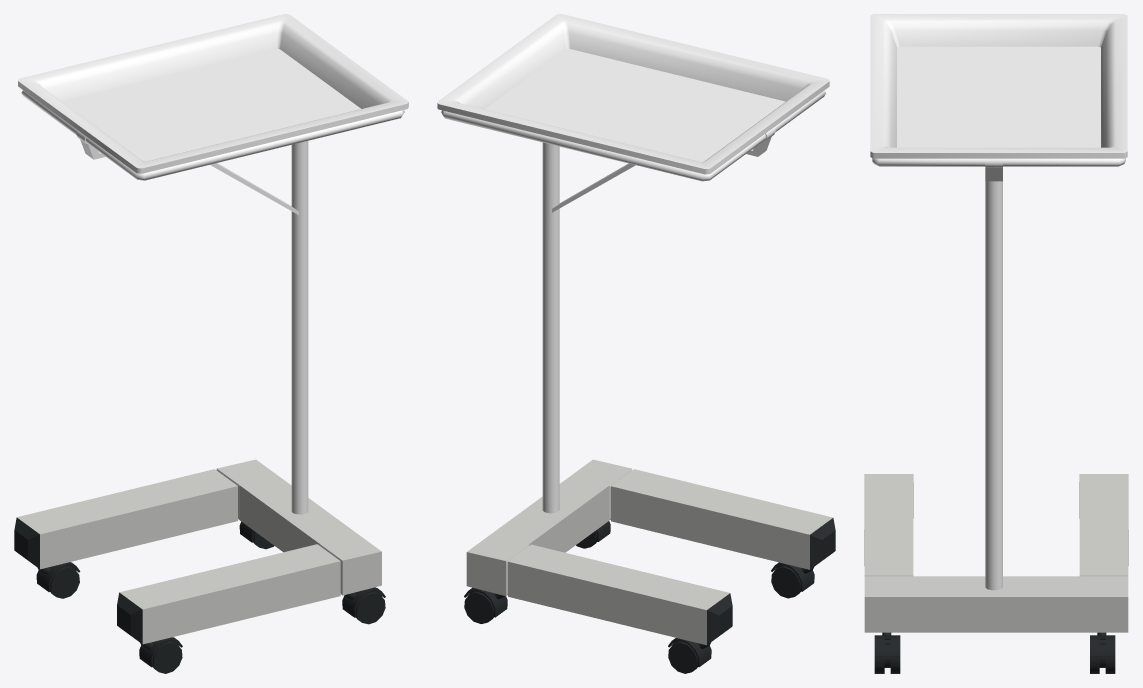
Rendered from SM_MayoTable.fbx.
3 views of the same model, side by side, from view 1: azimuth 30°, elevation 25°; view 2: azimuth 150°, elevation 25°; view 3: azimuth 270°, elevation 25° (orthographic). The views are drawn at different scales.
Visible parts, largest first — view 1: TableFrame, Tray, CasterWheel01, CasterWheel03, CasterWheel02; view 2: TableFrame, Tray, CasterWheel04, CasterWheel02, CasterWheel03; view 3: Tray, TableFrame, CasterWheel01, CasterWheel04.
Boxes of the visible parts, x1,y1,x2,y2 form: TableFrame: [14, 90, 404, 644]; Tray: [18, 14, 408, 173]; CasterWheel01: [342, 587, 385, 624]; CasterWheel03: [139, 637, 182, 673]; CasterWheel02: [36, 562, 80, 598]; TableFrame: [441, 90, 835, 645]; Tray: [437, 14, 829, 174]; CasterWheel04: [464, 587, 507, 623]; CasterWheel02: [668, 638, 711, 673]; CasterWheel03: [771, 562, 814, 598]; Tray: [870, 14, 1127, 158]; TableFrame: [864, 158, 1128, 632]; CasterWheel01: [874, 632, 900, 673]; CasterWheel04: [1090, 632, 1115, 673].
Size of the model in its own units: 45.55 by 80.37 by 35.76.
